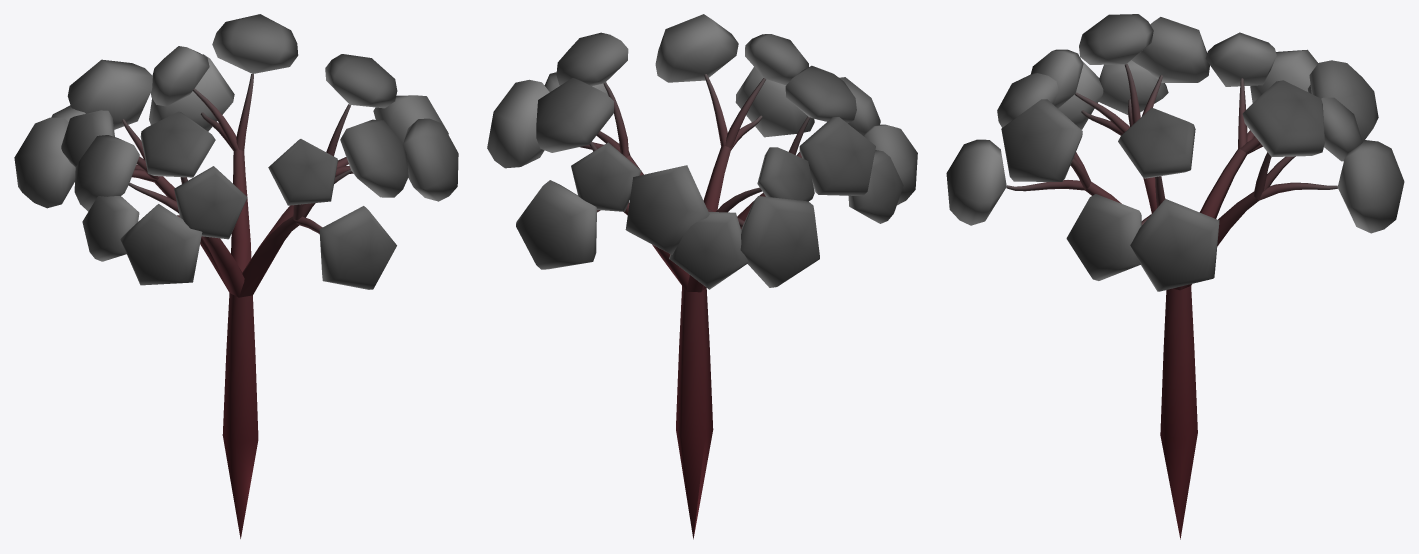
3 renders of one model, left to right at view 1: azimuth 30°, elevation 25°; view 2: azimuth 150°, elevation 25°; view 3: azimuth 270°, elevation 25°, orthographic. The views are drawn at different scales.
Visible parts, largest first — view 1: base60; view 2: base60; view 3: base60.
Boxes of the visible parts, x1,y1,x2,y2 form: base60: (14, 14, 458, 538); base60: (487, 14, 917, 539); base60: (946, 14, 1404, 539).
Size of the model in its own units: 0.4139 by 0.5 by 0.4284.
